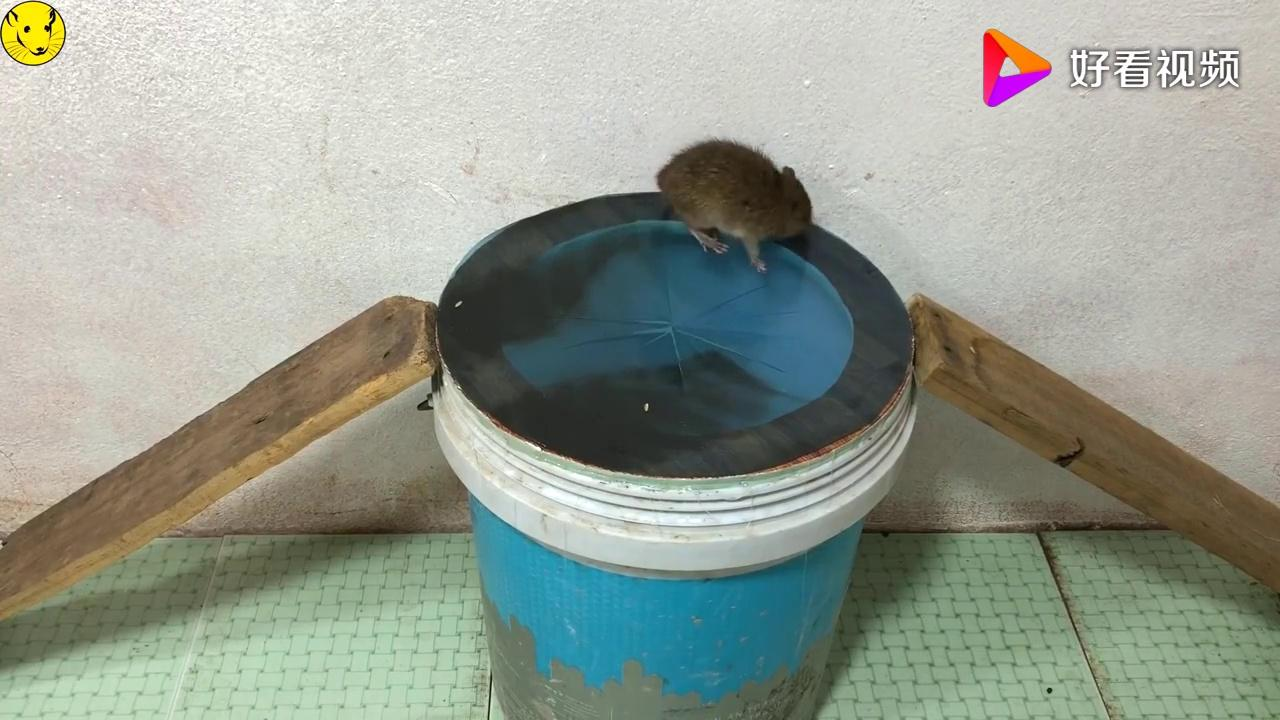rat: (647, 127, 823, 280)
